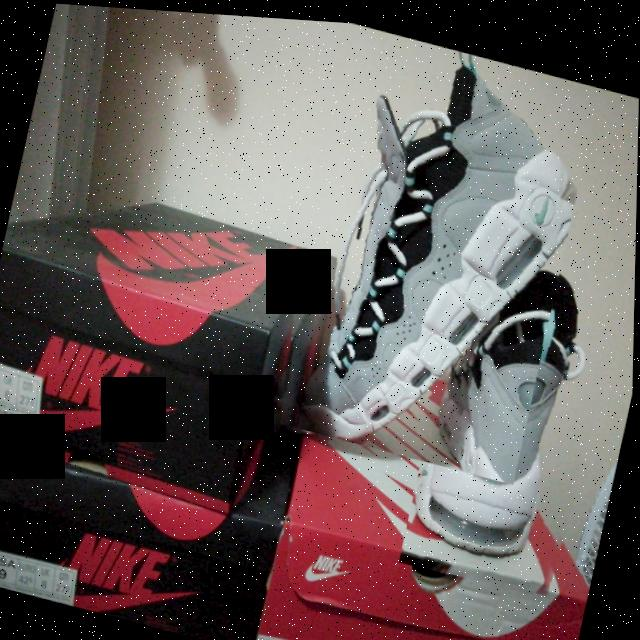shoe: (250, 14, 601, 481), (400, 231, 635, 602)
